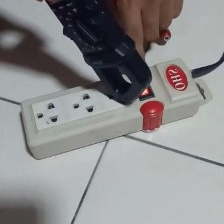three_eye_plug: (15, 54, 213, 162)
